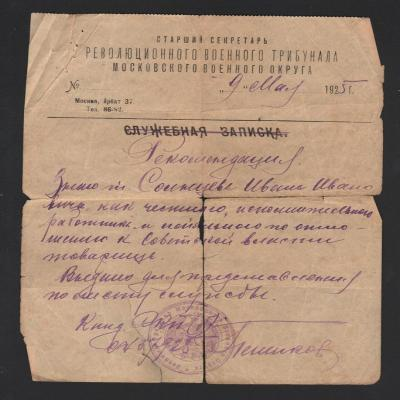document: (19, 11, 387, 385)
